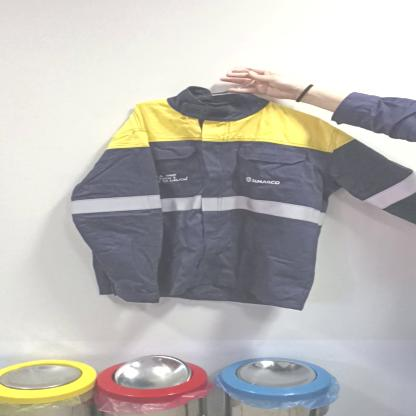C_eletrica: (67, 92, 416, 307)
